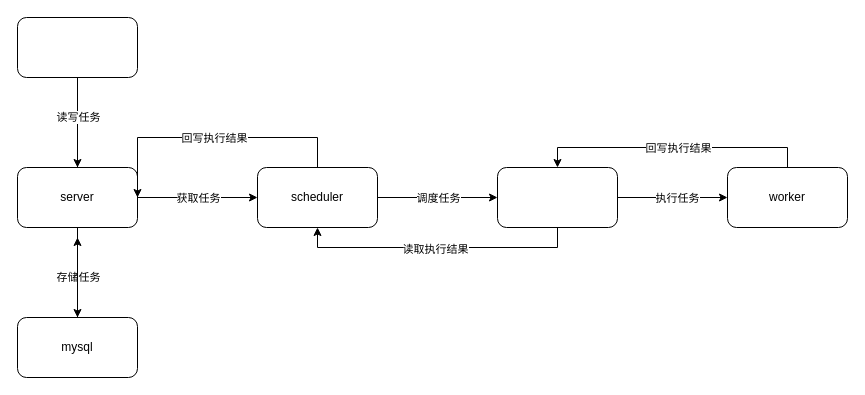
Image size: 865x395. Some labels were removed from this diagram. The shapes that lost their labels are listed below. From the top down, each one's box as (x1, y1, x2, y2) in pixels, then its label:
(16, 16, 138, 78): gctl
(496, 166, 618, 228): redis
